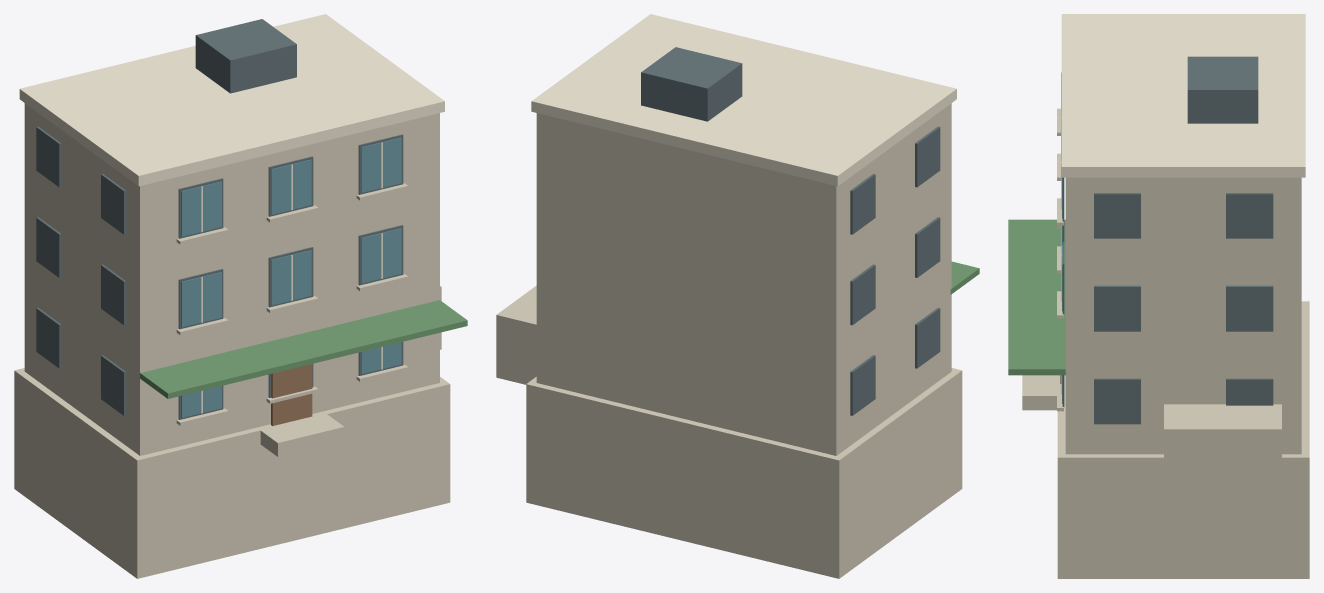
File: stone-2.glb
3 views of the same model, side by side, from view 1: azimuth 30°, elevation 25°; view 2: azimuth 150°, elevation 25°; view 3: azimuth 270°, elevation 25° (orthographic). The views are drawn at different scales.
Bounding box in the file's own units: 10.7 × 12.45 × 7.65.
